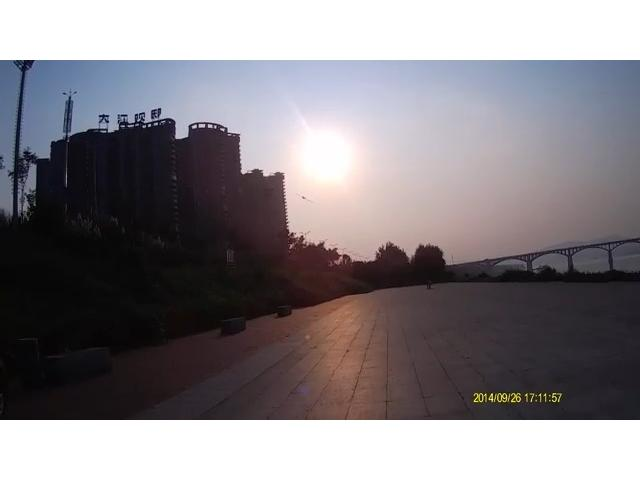Anti-Drone: (287, 187, 323, 207)
